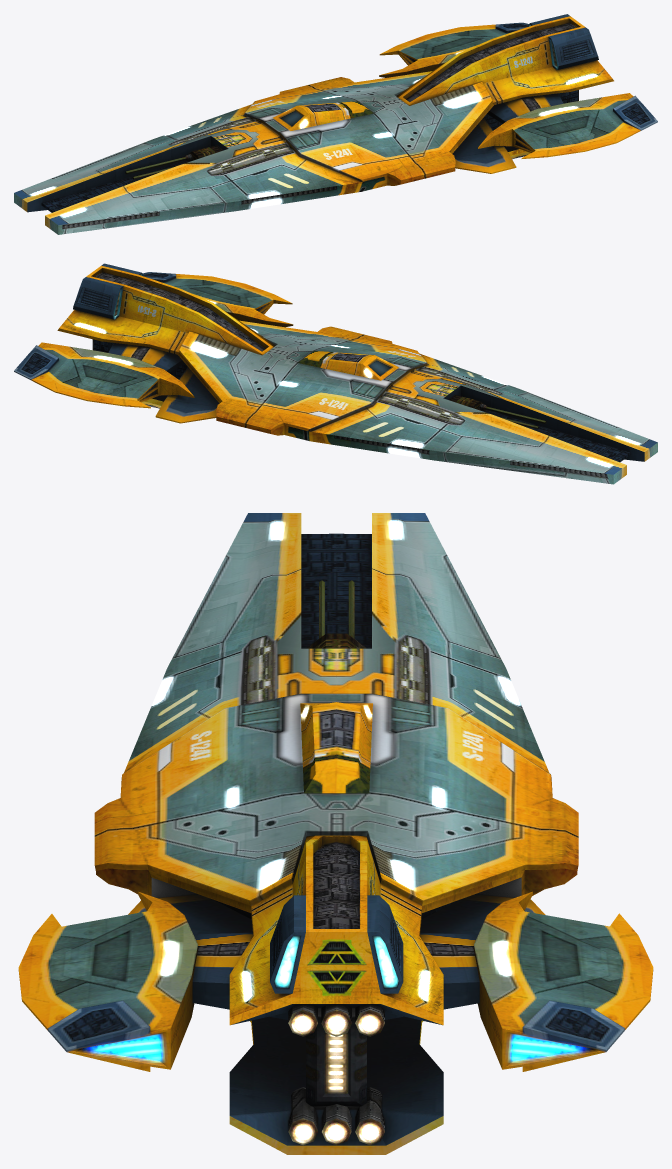
The model's file is space_ship.glb.
The picture shows the model from 3 angles, top to bottom: view 1: azimuth 30°, elevation 25°; view 2: azimuth 150°, elevation 25°; view 3: azimuth 270°, elevation 25°; orthographic projection. The views are drawn at different scales.
Visible parts, largest first — view 1: Plane.005; view 2: Plane.005; view 3: Plane.005.
Boxes of the visible parts, box(x1,y1,x2,y2) form: Plane.005: box(14, 14, 657, 234); Plane.005: box(14, 263, 657, 484); Plane.005: box(18, 513, 653, 1154).
Bounding box in the file's own units: 11.87 × 2.23 × 5.89.
Materials: 1 (1 with a texture image).
